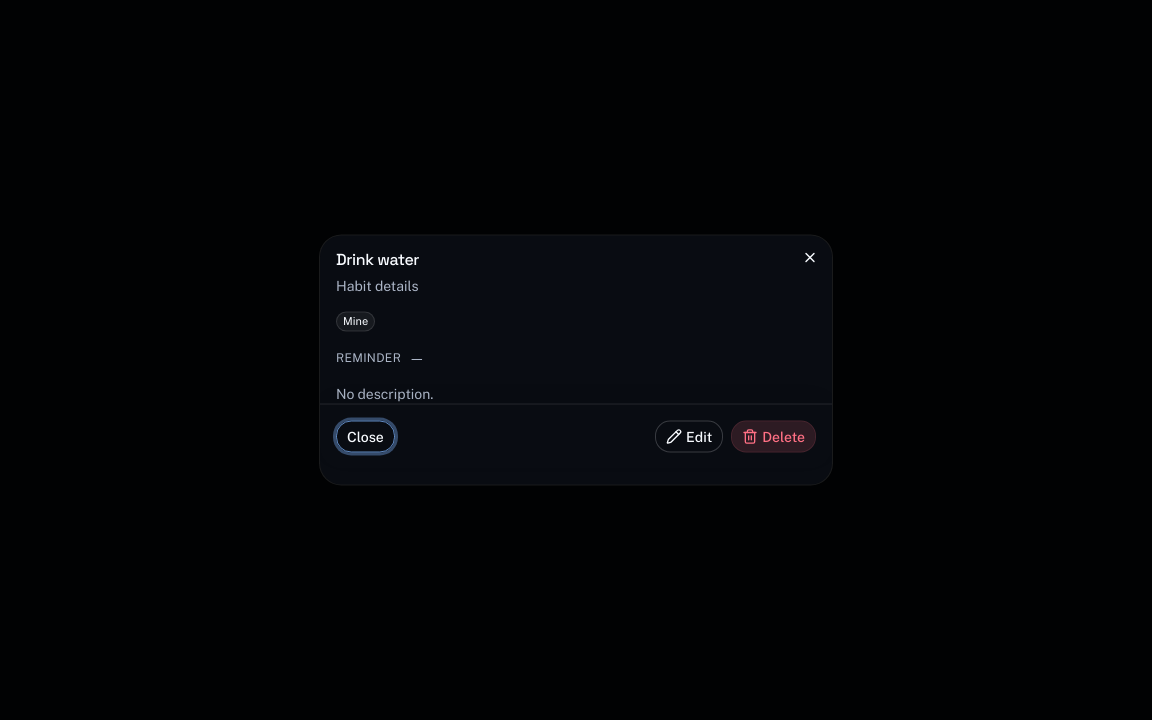
HabitTemplateDetailDialog — the cascade is opt-in › asks before pushing a content edit to assigned clients
The width and height of the screenshot is (1152, 720).
Step 1. Click the button "Edit" → point(689, 436), box [655,420,723,452]
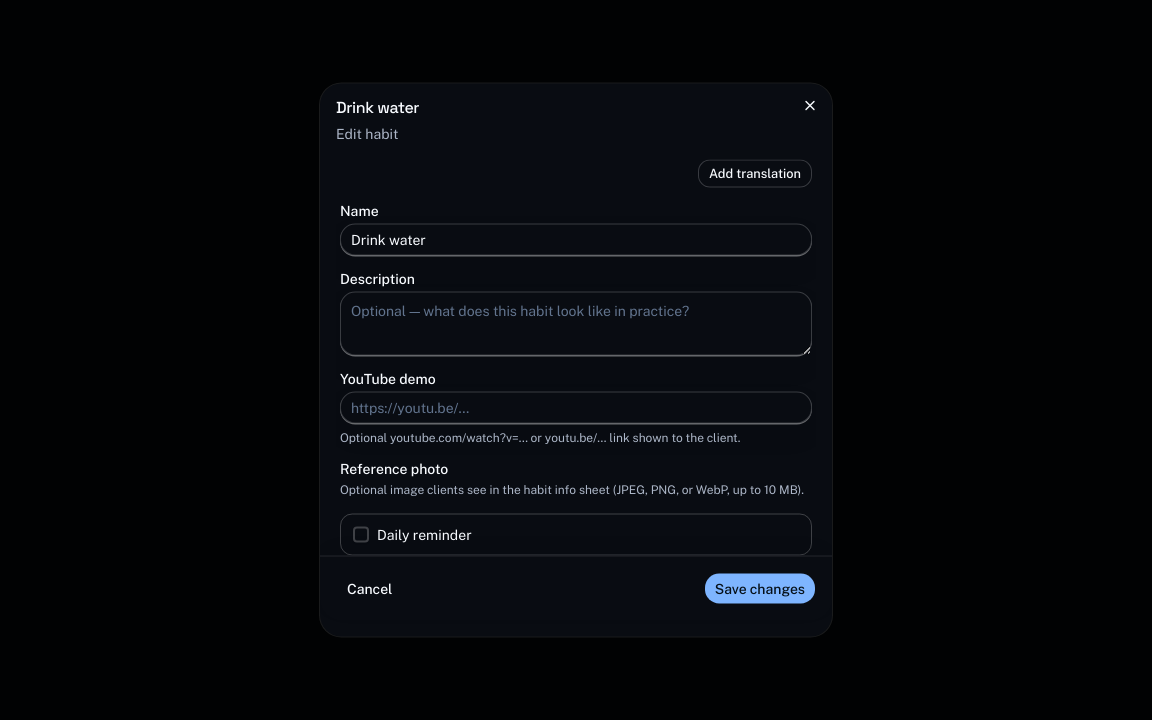
Step 2. Click the button "Save changes" → point(760, 588), box [704,572,816,604]
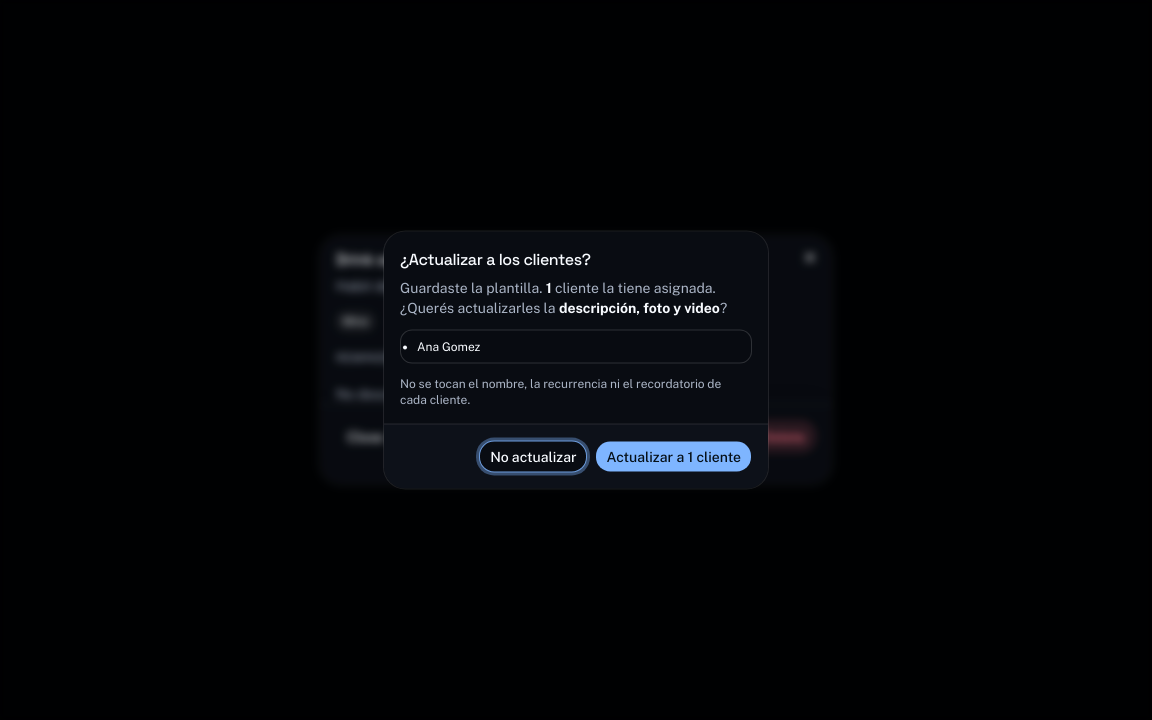
expect the heading "¿Actualizar a los clientes?" is shown: met, box [400,248,590,272]
